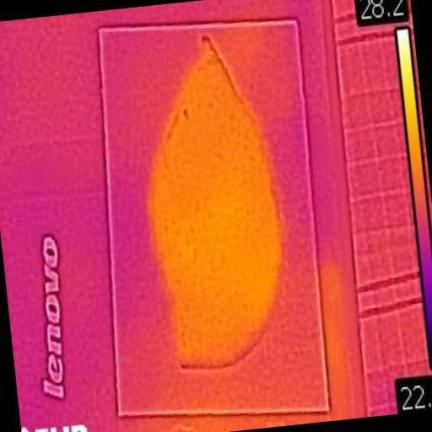mango: (148, 37, 278, 368)
